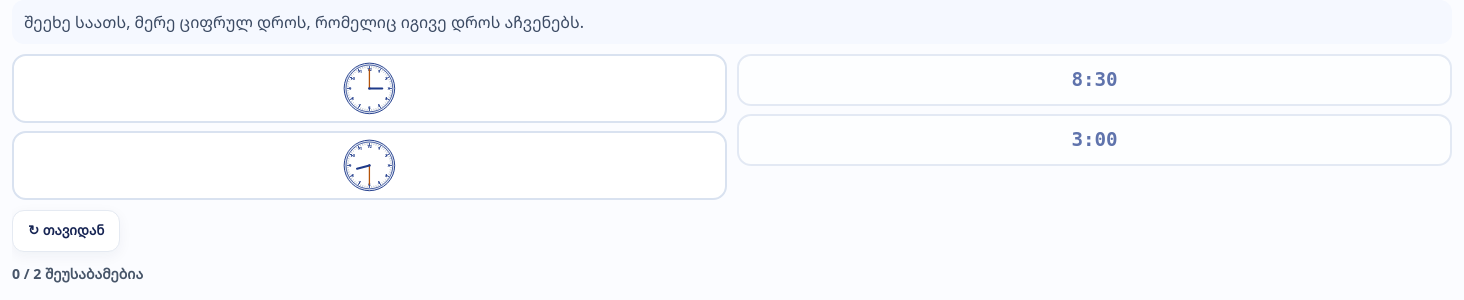
it: clock board: matching › tapping a clock and then a display pairs them, and says how many are paired
Click the button named "ანალოგური საათი 1" at [370, 88], box [12, 54, 727, 123]
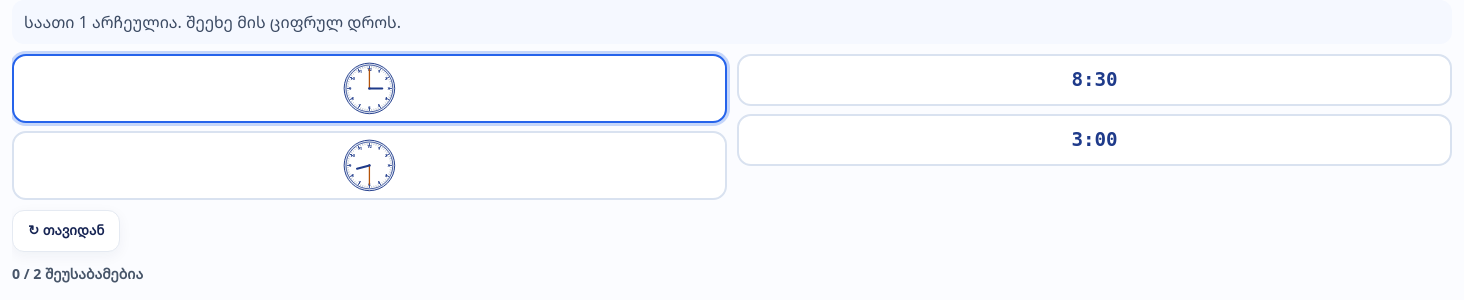
Click the button named "ციფრული დრო 2: 3:00" at [1094, 140], box [737, 114, 1452, 166]
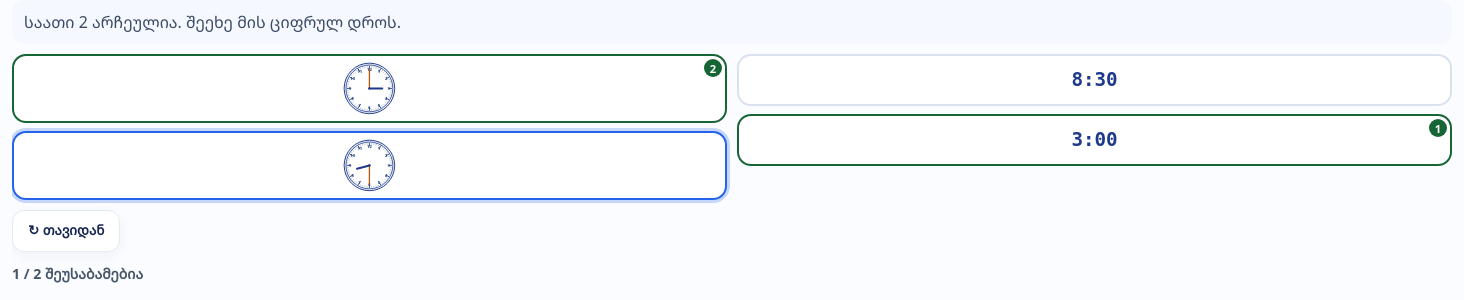
Expected: the text with class "mt-count" shows "1 / 2", [12, 264, 143, 283]
